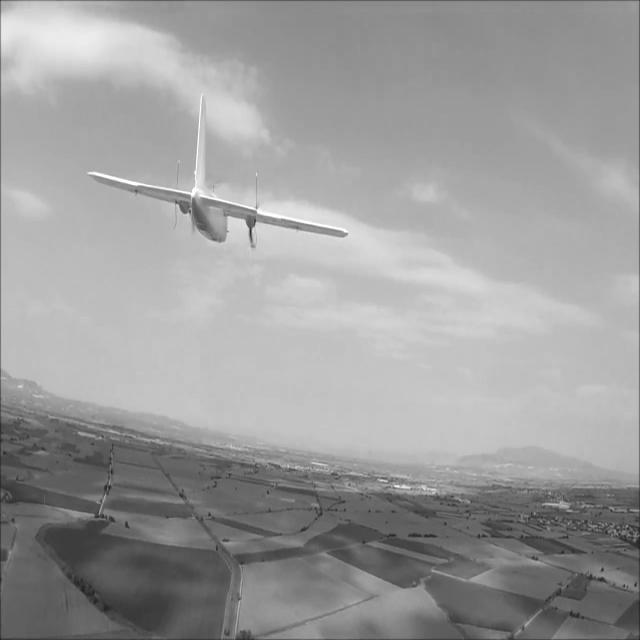iha: (87, 86, 349, 255)
